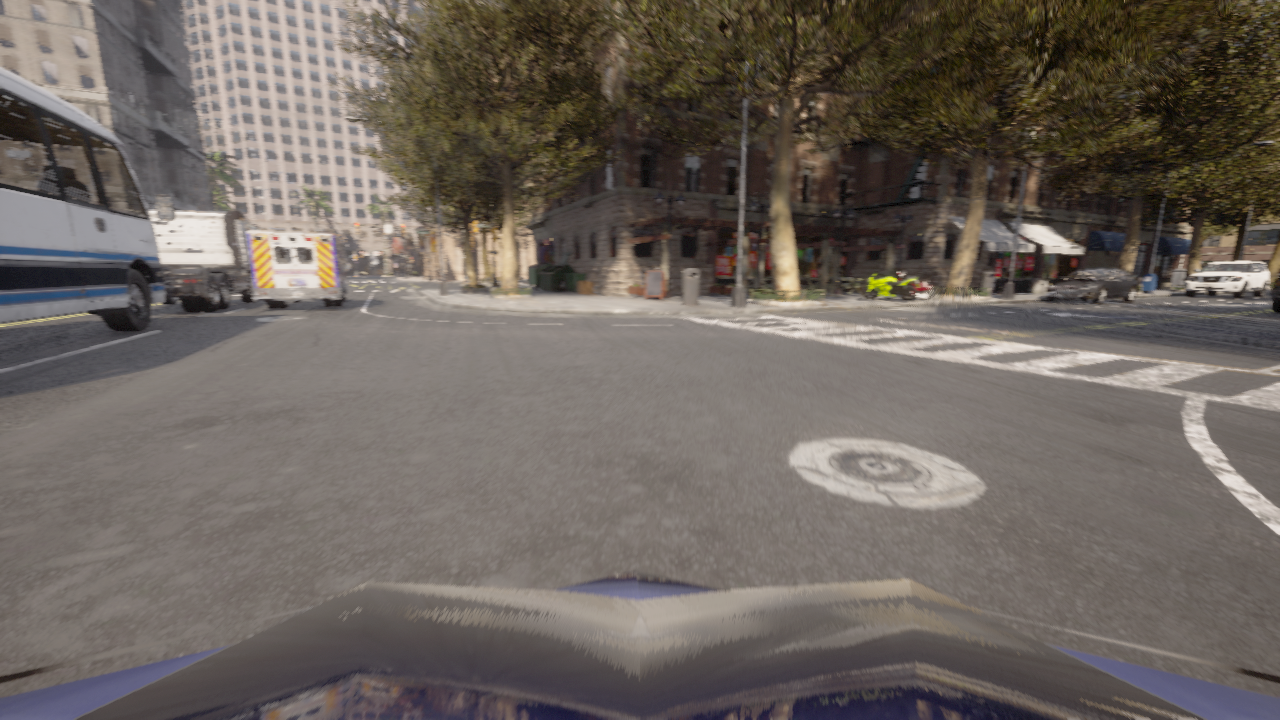cyclist: (0, 569, 1279, 719), (87, 209, 260, 314), (246, 230, 352, 308), (1047, 268, 1137, 303), (1184, 261, 1269, 297), (862, 272, 918, 300), (885, 270, 933, 300), (1270, 276, 1279, 312)
